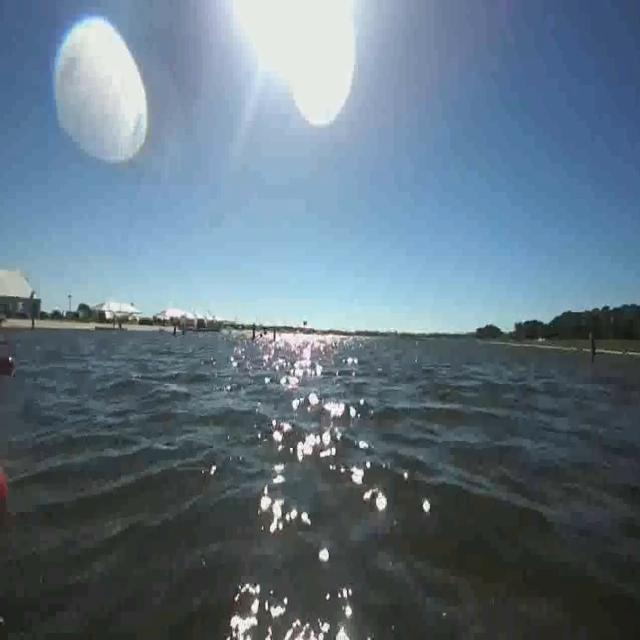red-buoy: (0, 464, 9, 506)
